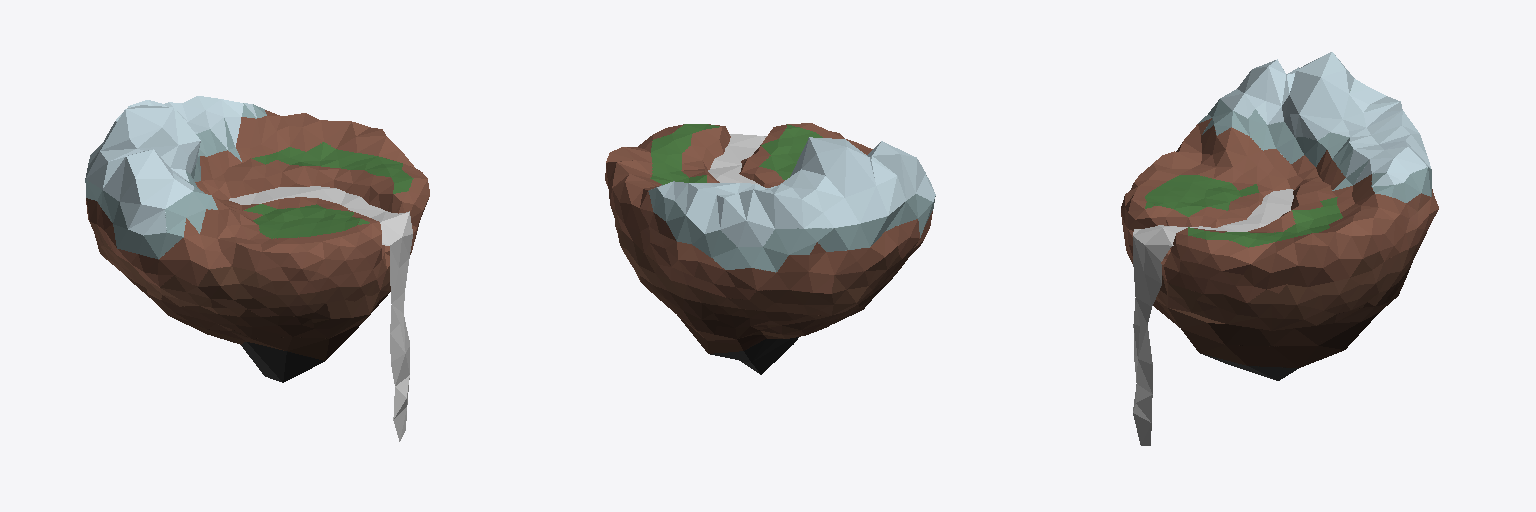
The picture shows the model from 3 angles: view 1: azimuth 30°, elevation 25°; view 2: azimuth 150°, elevation 25°; view 3: azimuth 270°, elevation 25°; orthographic projection.
Parts seen in each view (by area): view 1: Icosphere_Icosphere.001, Plane; view 2: Icosphere_Icosphere.001, Plane; view 3: Icosphere_Icosphere.001, Plane.
Boxes of the visible parts, x1,y1,x2,y2 form: Icosphere_Icosphere.001: [85, 96, 429, 382]; Plane: [229, 186, 412, 441]; Icosphere_Icosphere.001: [605, 123, 935, 374]; Plane: [708, 134, 766, 185]; Icosphere_Icosphere.001: [1121, 52, 1438, 380]; Plane: [1133, 189, 1293, 445].
Bounding box in the file's own units: 22.17 × 22.17 × 20.85.
Materials: 2 (1 with a texture image).